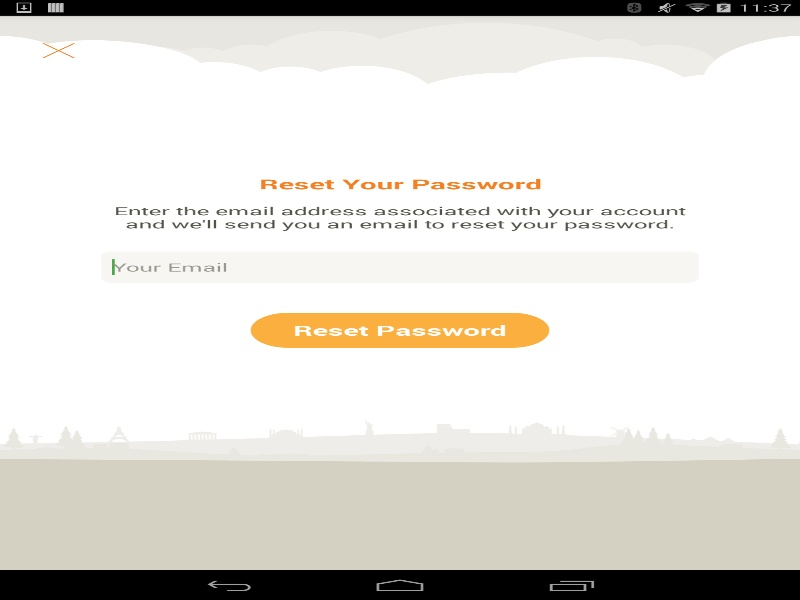Button: (250, 312, 549, 347), (0, 35, 117, 65)
Input: (101, 251, 698, 282)
